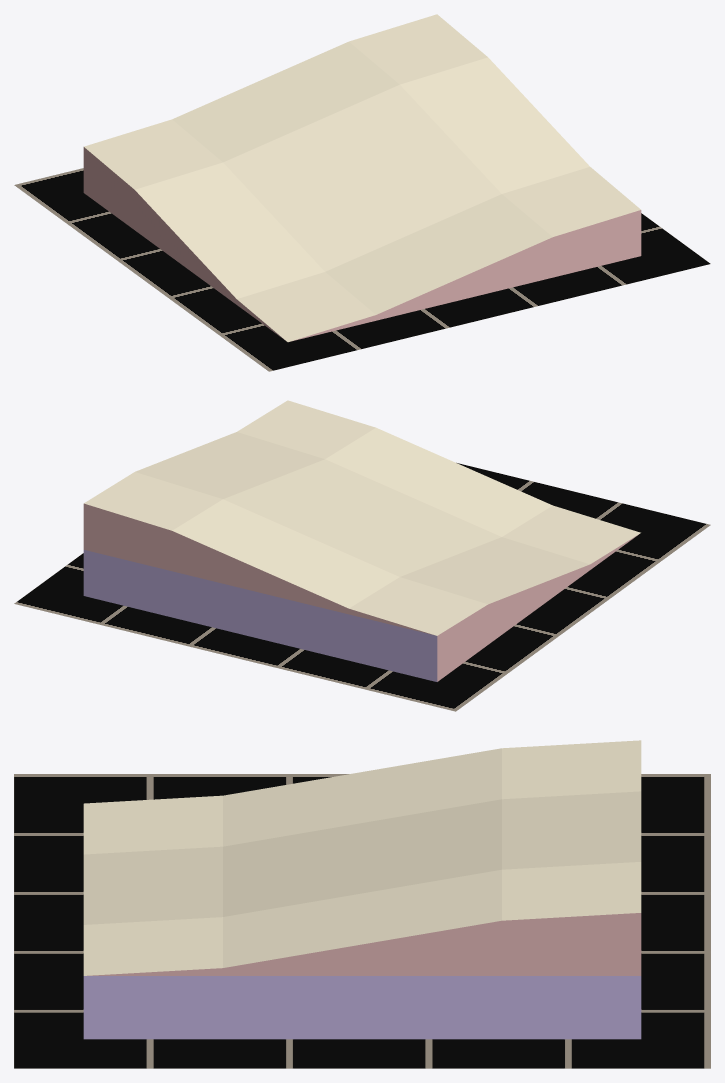
The model's file is Terrain_Sand_Incline_Overlapping_4x4.glb.
The picture shows the model from 3 angles, top to bottom: view 1: azimuth 30°, elevation 25°; view 2: azimuth 150°, elevation 25°; view 3: azimuth 270°, elevation 25°; orthographic projection. The views are drawn at different scales.
Visible parts, largest first — view 1: Terrain_Sand_Incline_Overlapping_4x4, Floor; view 2: Terrain_Sand_Incline_Overlapping_4x4, Floor; view 3: Terrain_Sand_Incline_Overlapping_4x4, Floor.
Boxes of the visible parts, x1,y1,x2,y2 form: Terrain_Sand_Incline_Overlapping_4x4: (83,14,641,342); Floor: (14,168,710,371); Terrain_Sand_Incline_Overlapping_4x4: (83,400,640,681); Floor: (14,462,710,711); Terrain_Sand_Incline_Overlapping_4x4: (83,740,641,1039); Floor: (14,774,710,1068).
Size of the model in its own units: 500 by 100 by 500.
5 materials, 1 textured.
